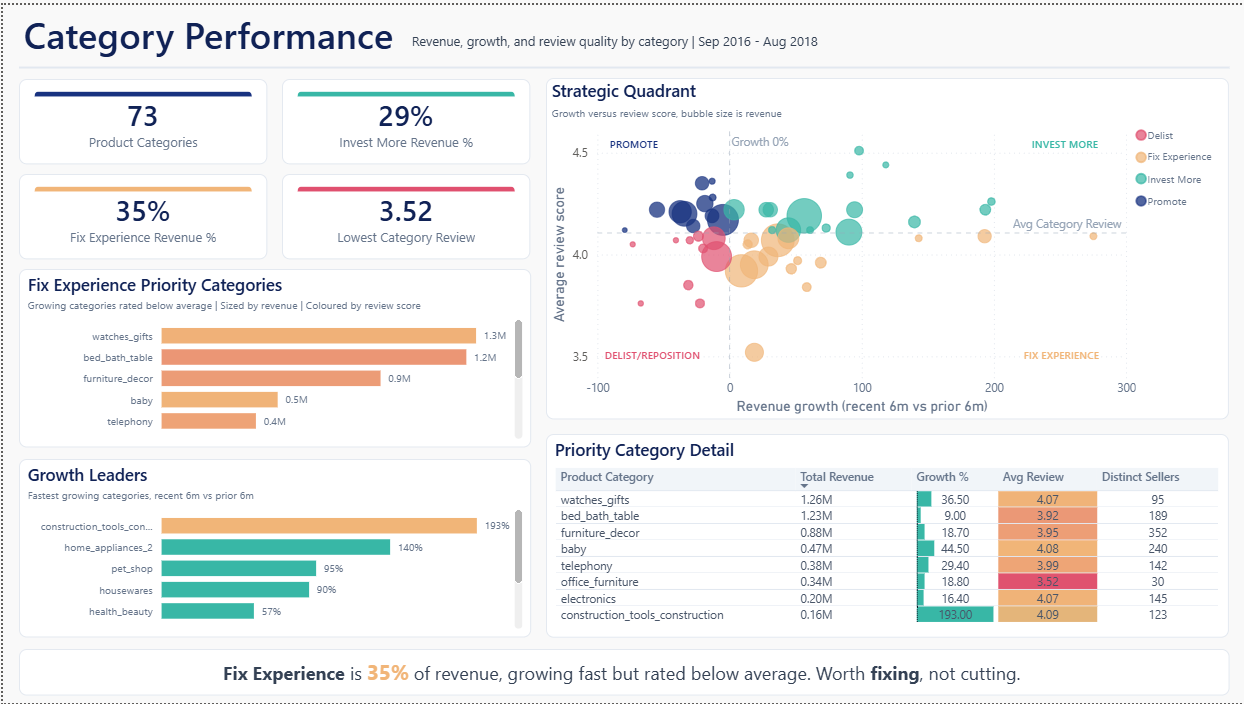

What the dashboard file says about the page in this screenshot:
{"tool":"powerbi","page":{"name":"Category Performance","canvas":[1280,720],"ordinal":2},"visuals":[{"type":"textbox","box":[16,0,400,64],"z":0},{"type":"scatterChart","title":"Strategic Quadrant ","fields":{"X":["agg_category_performance.Growth %"],"Y":["Sum(agg_category_performance.Avg Review)"],"Size":["Sum(agg_category_performance.Total Revenue)"],"Series":["agg_category_performance.Quadrant"]},"box":[560,75,704,352],"z":0,"group":"g1"},{"type":"textbox","box":[416,24,448,32],"z":1000},{"type":"textbox","box":[1056,128.5,96,30],"z":1000,"group":"g1"},{"type":"shape","box":[16,48,1248,32],"z":2000},{"type":"textbox","box":[621.1,128.3,95.4,34.8],"z":2000,"group":"g1"},{"type":"cardVisual","fields":{"Data":["Count(agg_category_performance.Product Category)"]},"box":[16,76,256,88],"z":3000},{"type":"textbox","box":[616,345.7,128,37.4],"z":3000,"group":"g1"},{"type":"cardVisual","fields":{"Data":["All Measures.Fix Experience Revenue %"]},"box":[16,174,256,88],"z":4000},{"type":"textbox","box":[1048,345.7,104,37.4],"z":4000,"group":"g1"},{"type":"cardVisual","fields":{"Data":["All Measures.Invest More Revenue %"]},"box":[288,76,256,88],"z":5000},{"type":"cardVisual","fields":{"Data":["All Measures.Worst Category Review"]},"box":[288,174,256,88],"z":6000},{"type":"group","id":"g1","title":"Group 1","box":[560,75,704,352],"z":7000},{"type":"barChart","title":"Fix Experience Priority Categories","fields":{"Category":["agg_category_performance.Product Category"],"Y":["Sum(agg_category_performance.Total Revenue)"]},"box":[16,272,528,184],"z":8000},{"type":"barChart","title":"Growth Leaders","fields":{"Category":["agg_category_performance.Product Category"],"Y":["Sum(agg_category_performance.Growth %)"]},"box":[16,468,528,184],"z":9000},{"type":"tableEx","title":"Priority Category Detail","fields":{"Values":["agg_category_performance.Product Category","Sum(agg_category_performance.Total Revenue)","Sum(agg_category_performance.Growth %)","Sum(agg_category_performance.Avg Review)","Sum(agg_category_performance.Distinct Sellers)"]},"box":[560,442,704,210],"z":10000},{"type":"textbox","box":[16,664,1248,48],"z":11000}]}

Visuals, with their boxes in screenshot pixels (x1, y1, x2, y2), scaled from the page's 1280x720 canvas onto the 1244x704 screenshot:
textbox: bbox=(16, 0, 404, 63)
"Strategic Quadrant " scatterChart: bbox=(544, 73, 1228, 418)
textbox: bbox=(404, 23, 840, 55)
textbox: bbox=(1026, 126, 1120, 155)
shape: bbox=(16, 47, 1228, 78)
textbox: bbox=(604, 125, 696, 159)
cardVisual - Count(agg_category_performance.Product Category): bbox=(16, 74, 264, 160)
textbox: bbox=(599, 338, 723, 375)
cardVisual - All Measures.Fix Experience Revenue %: bbox=(16, 170, 264, 256)
textbox: bbox=(1019, 338, 1120, 375)
cardVisual - All Measures.Invest More Revenue %: bbox=(280, 74, 529, 160)
cardVisual - All Measures.Worst Category Review: bbox=(280, 170, 529, 256)
"Group 1" group: bbox=(544, 73, 1228, 418)
"Fix Experience Priority Categories" barChart: bbox=(16, 266, 529, 446)
"Growth Leaders" barChart: bbox=(16, 458, 529, 638)
"Priority Category Detail" tableEx: bbox=(544, 432, 1228, 638)
textbox: bbox=(16, 649, 1228, 696)
